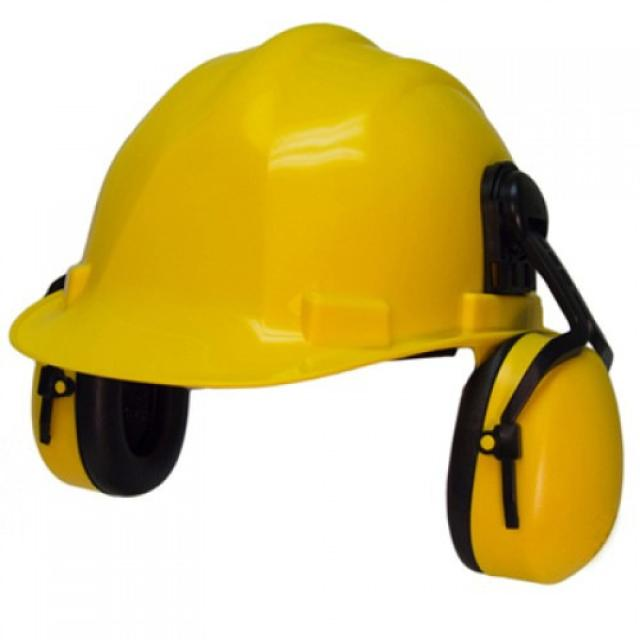Ear-Protection: (442, 329, 626, 585), (26, 354, 188, 501)
Helmet: (5, 19, 548, 393)
